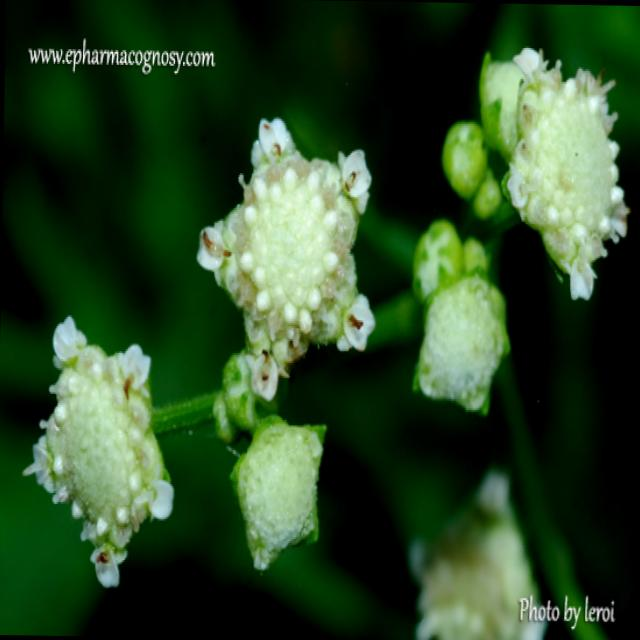Poisonous-Parthenium: (195, 105, 405, 402), (459, 47, 640, 307), (25, 318, 196, 592), (409, 193, 541, 423), (222, 385, 356, 585)
